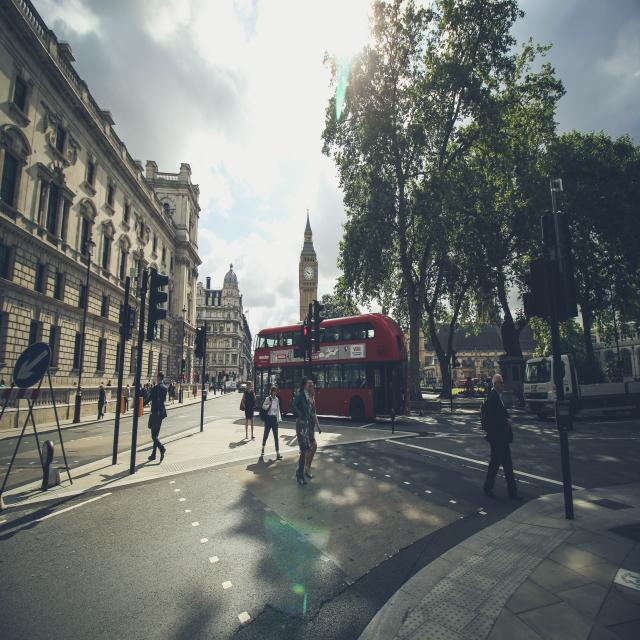body: (479, 373, 525, 501), (260, 322, 366, 352), (256, 364, 371, 389), (289, 376, 311, 485), (223, 434, 275, 477), (258, 386, 283, 460), (148, 371, 168, 462), (304, 380, 322, 478), (423, 372, 487, 398), (239, 380, 257, 440), (97, 384, 107, 421), (170, 379, 210, 388), (390, 369, 398, 404), (122, 383, 130, 414), (131, 379, 143, 398), (71, 381, 79, 409), (149, 382, 157, 408), (8, 382, 15, 409), (98, 381, 105, 403), (141, 384, 148, 402), (171, 382, 176, 404), (192, 383, 197, 399), (168, 383, 172, 403), (236, 380, 247, 386), (0, 378, 6, 387), (145, 383, 149, 396), (147, 379, 152, 389), (105, 379, 112, 386), (210, 381, 212, 393), (225, 380, 228, 388), (164, 379, 166, 386), (220, 381, 222, 387)
